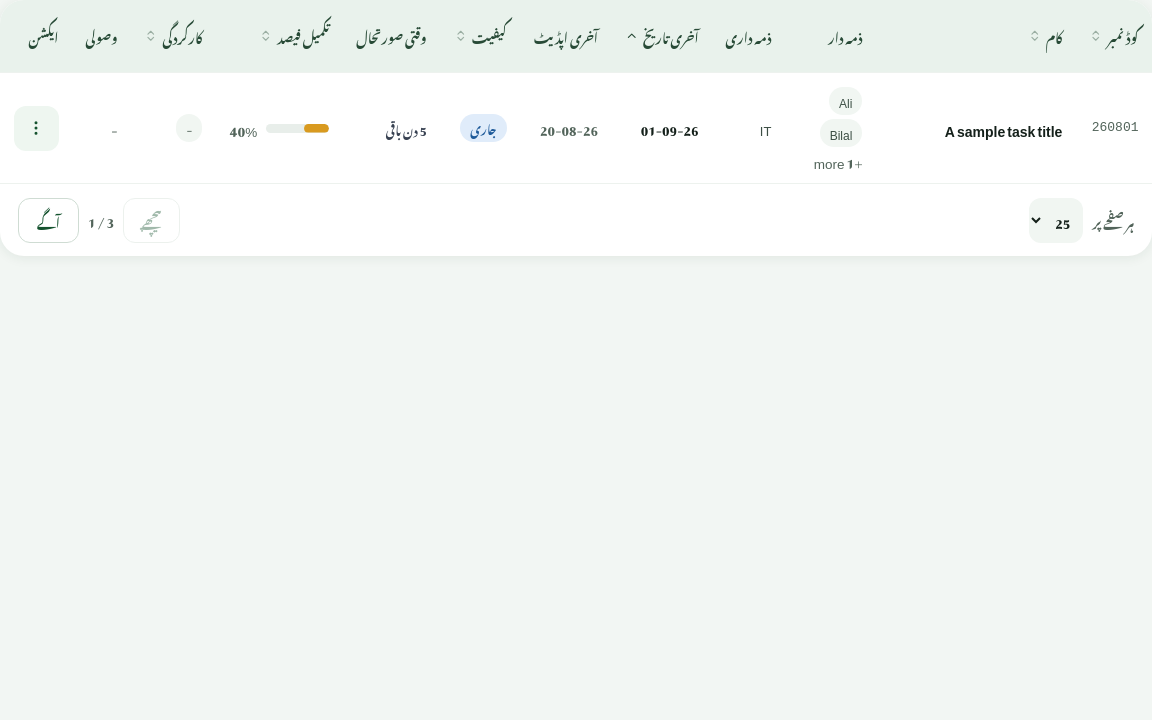
Test case: TaskTable (docs/08-ui-ux.md §6) › the row actions menu closes on outside click
Step 1. Click the button named "اقدامات" → x=36, y=128, box [14,106,58,151]
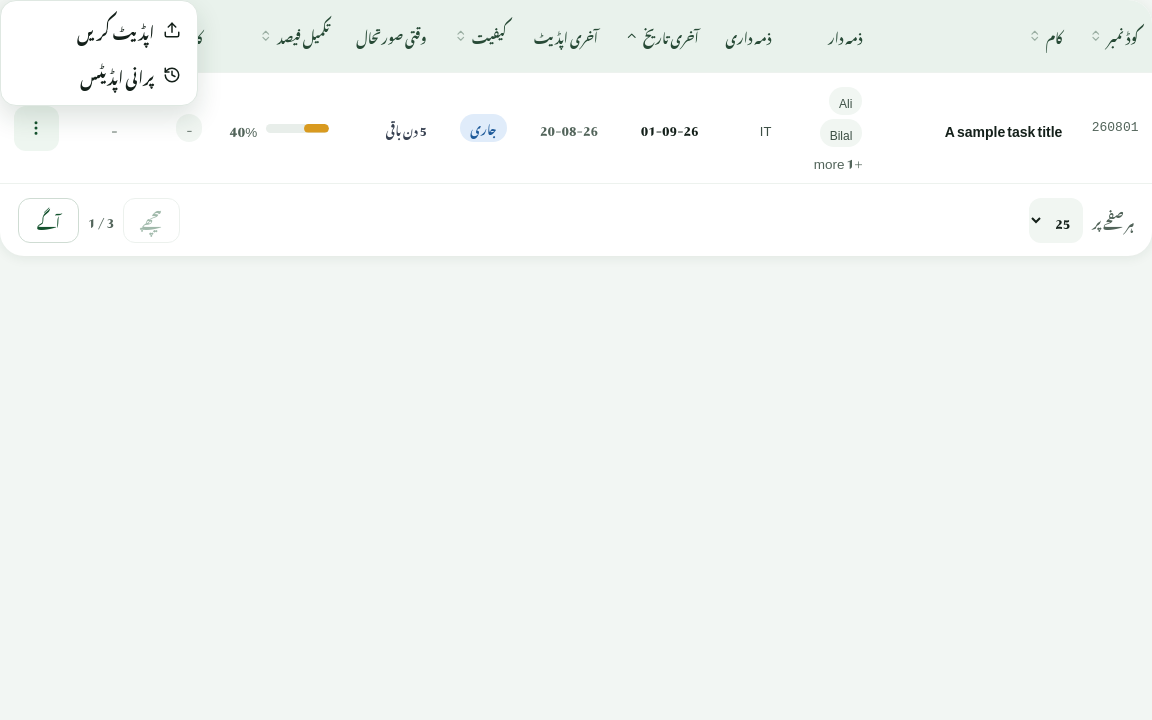
expect the button labelled "اپڈیٹ کریں" is shown: met, box [8,8,190,53]
Note: floating-ui's useDismiss listens for 'pointerdown' by default, not 'mousedown'.
Step 2. Press the mouse on the element that starts with "کوڈ نمبر" → x=576, y=360, box [0,0,1151,719]
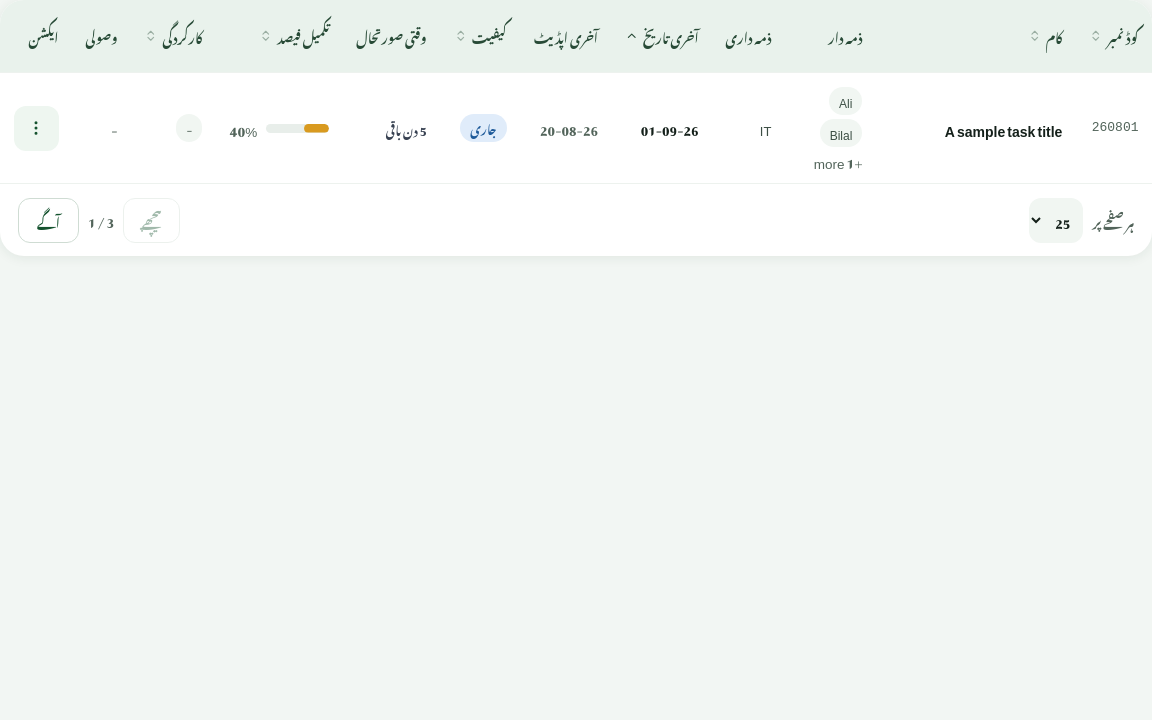
expect the button labelled "اپڈیٹ کریں" is gone: met
